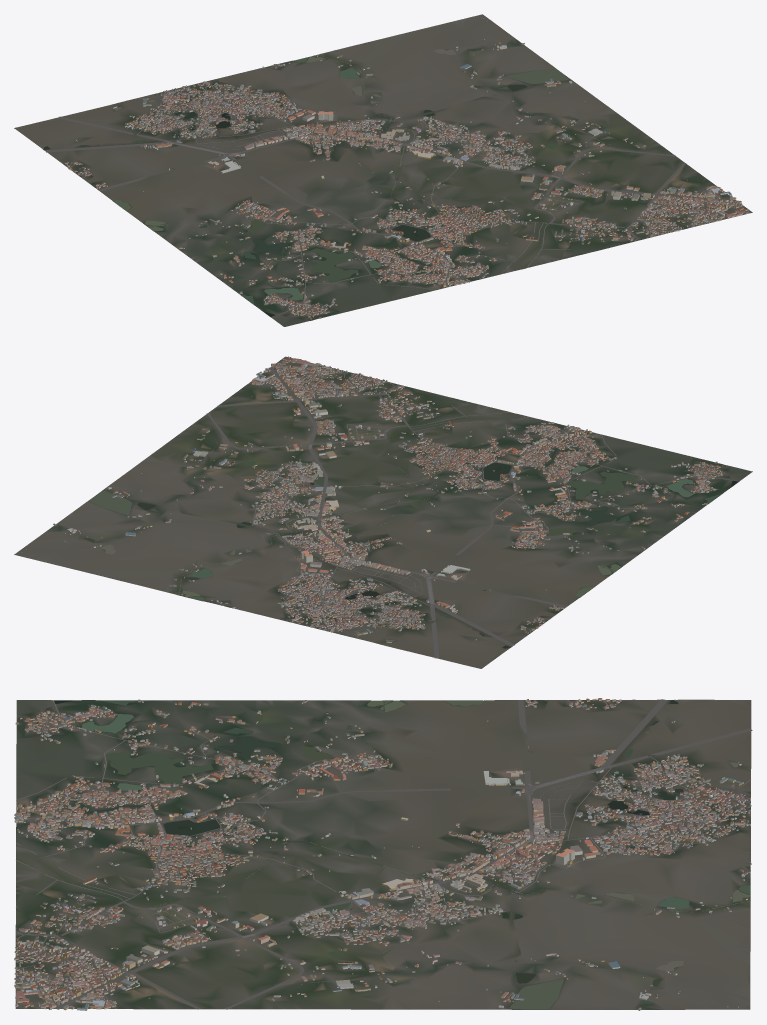
3 views of the same model, one above another, from view 1: azimuth 30°, elevation 25°; view 2: azimuth 150°, elevation 25°; view 3: azimuth 270°, elevation 25° (orthographic). The views are drawn at different scales.
Parts seen in each view (by area): view 1: ground, buildings, roads, water; view 2: ground, buildings, roads, water; view 3: ground, buildings, roads, water.
Boxes of the visible parts, x1,y1,x2,y2 form: ground: (14, 14, 752, 326); buildings: (42, 17, 749, 319); roads: (45, 68, 747, 317); water: (43, 43, 568, 319); ground: (14, 356, 752, 668); buildings: (21, 356, 724, 648); roads: (206, 359, 738, 658); water: (60, 413, 738, 648); ground: (15, 699, 751, 1009); buildings: (14, 698, 751, 1010); roads: (15, 699, 752, 1009); water: (18, 700, 750, 1009).
Size of the model in its own units: 2814 by 40.45 by 2820.
